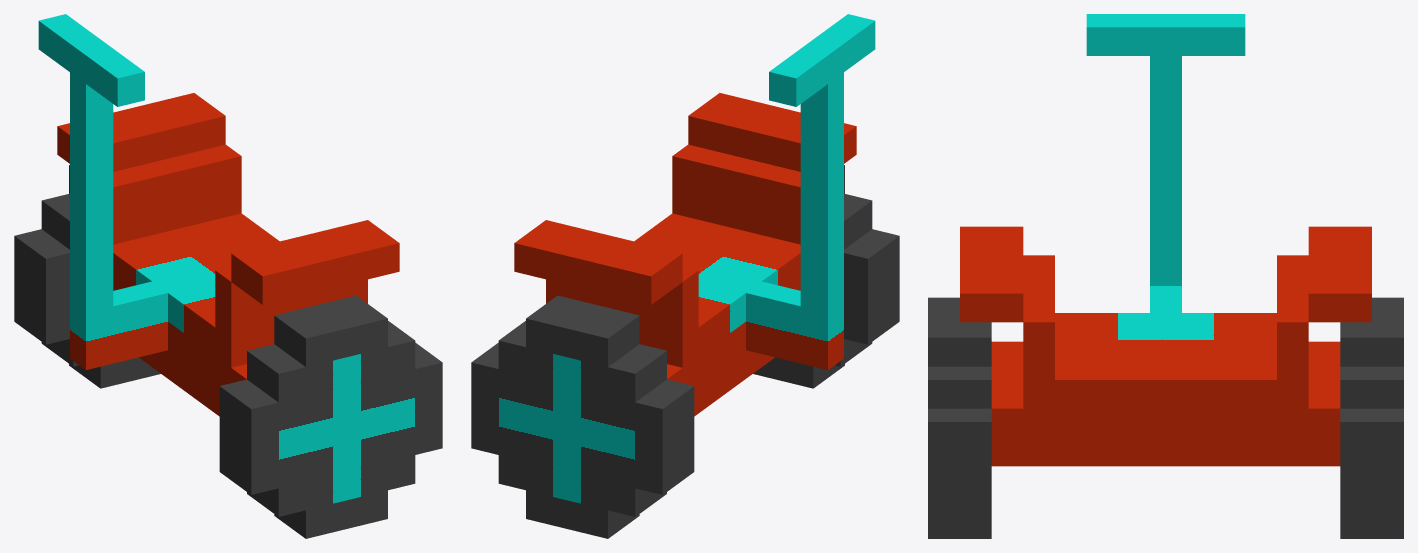
Rendered from Vehicle_20.fbx.
3 views of the same model, side by side, from view 1: azimuth 30°, elevation 25°; view 2: azimuth 150°, elevation 25°; view 3: azimuth 270°, elevation 25° (orthographic).
Parts seen in each view (by area): view 1: Vehicle_20; view 2: Vehicle_20; view 3: Vehicle_20.
Boxes of the visible parts, x1,y1,x2,y2 form: Vehicle_20: (14,14,442,538); Vehicle_20: (471,14,899,538); Vehicle_20: (928,14,1403,538).
Size of the model in its own units: 9 by 15 by 15.
Materials: 1 (1 with a texture image).
